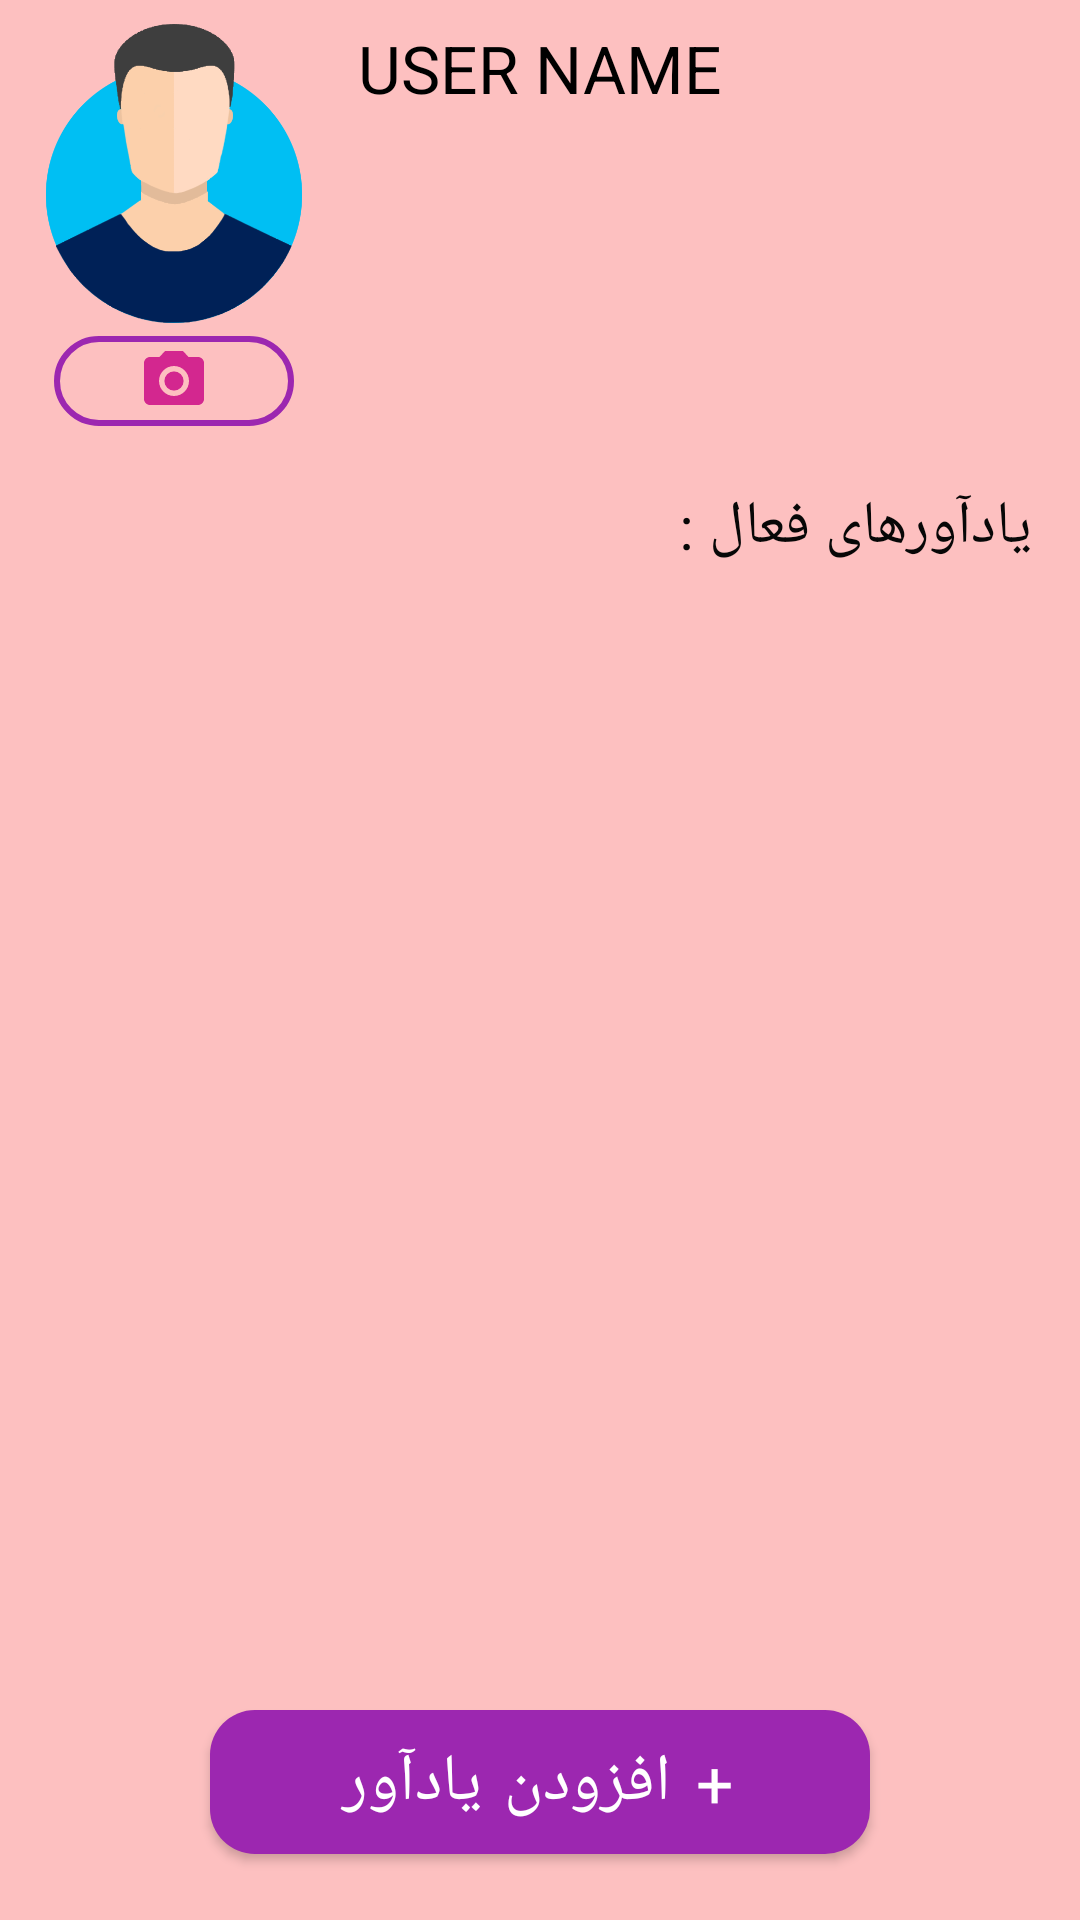

Named icons in this screenshot (1080px x 1920px) and their bounding boxes, (x1, y1, x2, y2):
camera: (54, 336, 294, 426)
